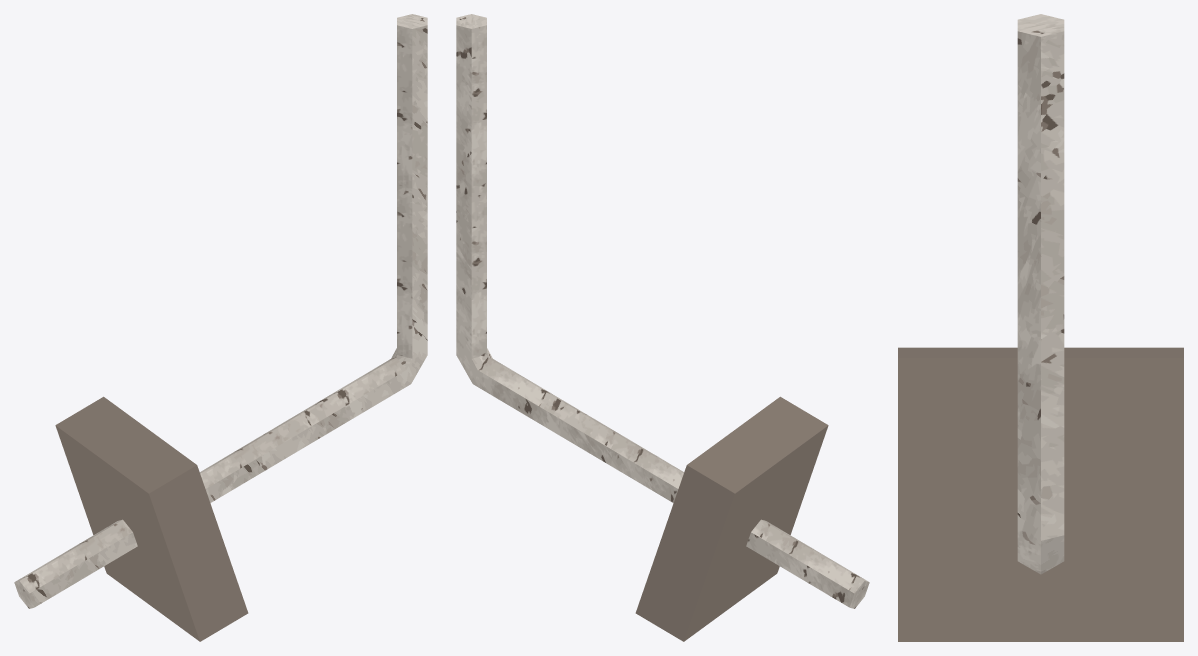
Rendered from viga4.glb.
3 views of the same model, side by side, from view 1: azimuth 30°, elevation 25°; view 2: azimuth 150°, elevation 25°; view 3: azimuth 270°, elevation 25° (orthographic). The views are drawn at different scales.
Parts seen in each view (by area): view 1: Antenna_broken_2; view 2: Antenna_broken_2; view 3: Antenna_broken_2.
Boxes of the visible parts, box(x1,y1,x2,y2) form: Antenna_broken_2: box(14, 14, 427, 641); Antenna_broken_2: box(456, 14, 869, 641); Antenna_broken_2: box(898, 14, 1183, 641).
Size of the model in its own units: 2.62 by 3.21 by 1.04.
1 material, 1 textured.
